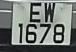1: (16, 23, 25, 45)
6: (25, 23, 38, 46)
7: (38, 23, 53, 45)
8: (52, 23, 66, 44)
E: (26, 2, 43, 24)
W: (43, 2, 57, 24)
